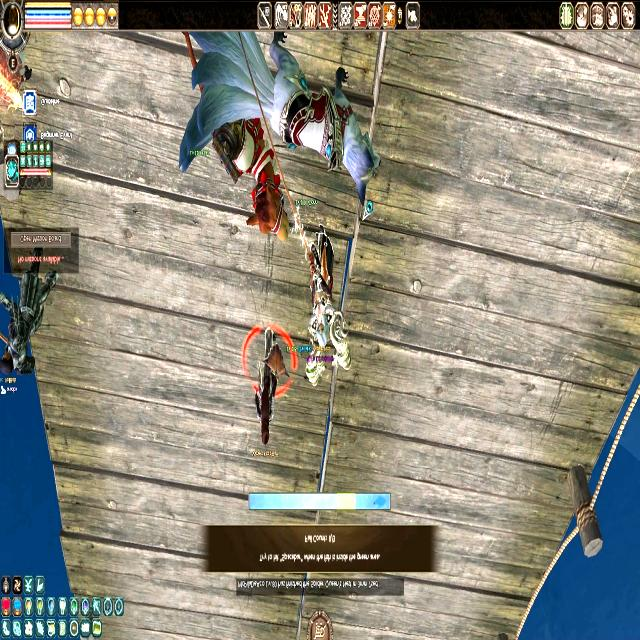fishes: (372, 492, 386, 510)
